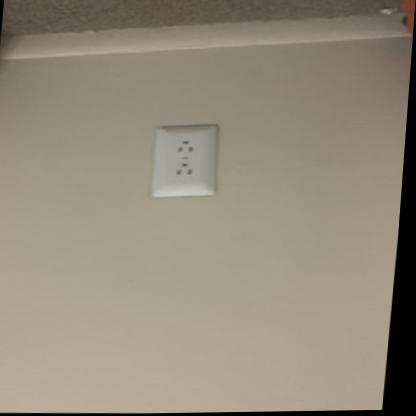OUTLET: (148, 123, 225, 198)
